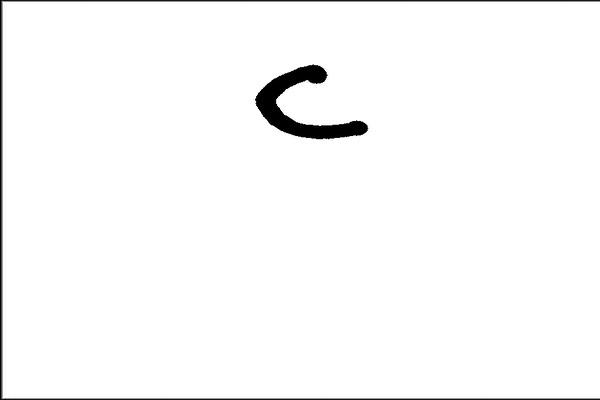C: (250, 61, 373, 143)
